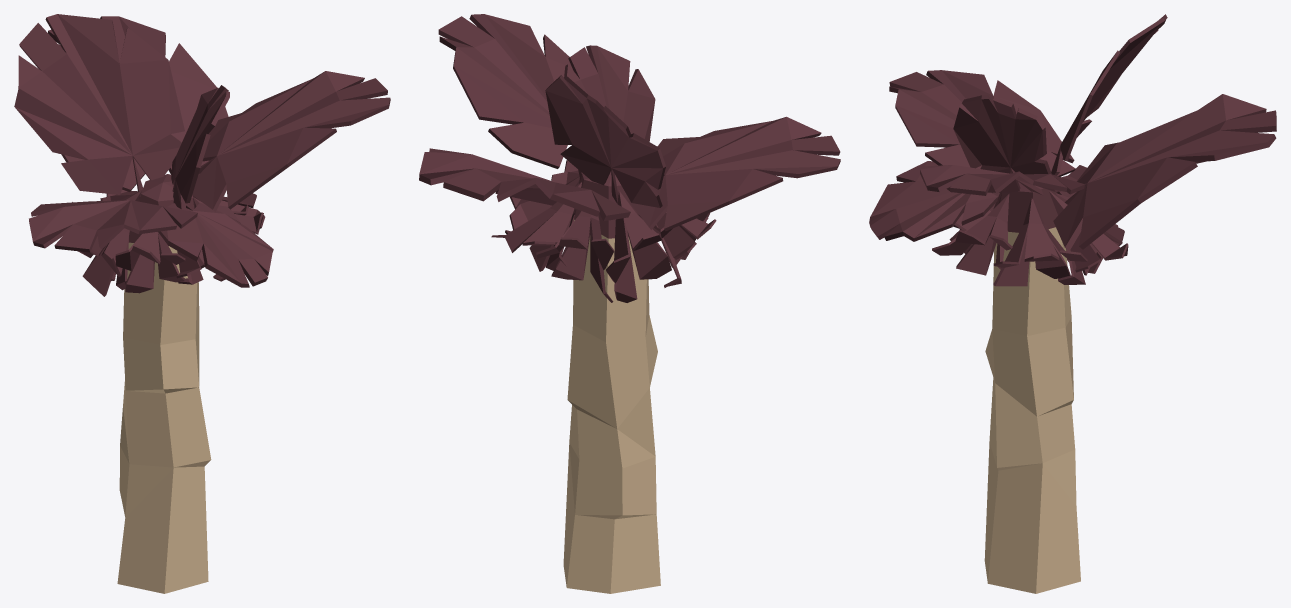
File: nature-palm-flower-prehistoric-big.glb
The picture shows the model from 3 angles, left to right: view 1: azimuth 30°, elevation 25°; view 2: azimuth 150°, elevation 25°; view 3: azimuth 270°, elevation 25°; orthographic projection. The views are drawn at different scales.
Visible parts, largest first — view 1: SM_Palm_Flower_Prehistoric_Big; view 2: SM_Palm_Flower_Prehistoric_Big; view 3: SM_Palm_Flower_Prehistoric_Big.
Boxes of the visible parts, <box> form: SM_Palm_Flower_Prehistoric_Big: <box>14,14,390,593</box>; SM_Palm_Flower_Prehistoric_Big: <box>419,14,840,593</box>; SM_Palm_Flower_Prehistoric_Big: <box>869,14,1276,593</box>.
Size of the model in its own units: 6.97 by 9.53 by 6.59.
